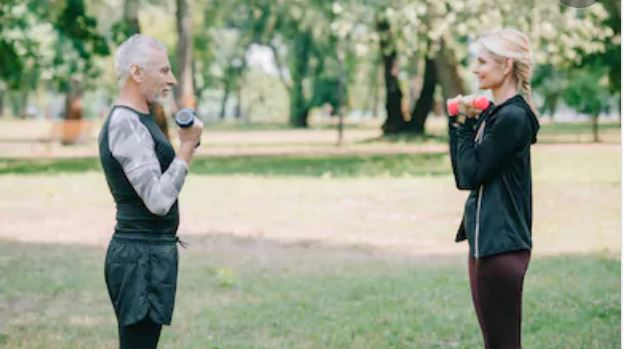Good: (96, 28, 536, 349)
